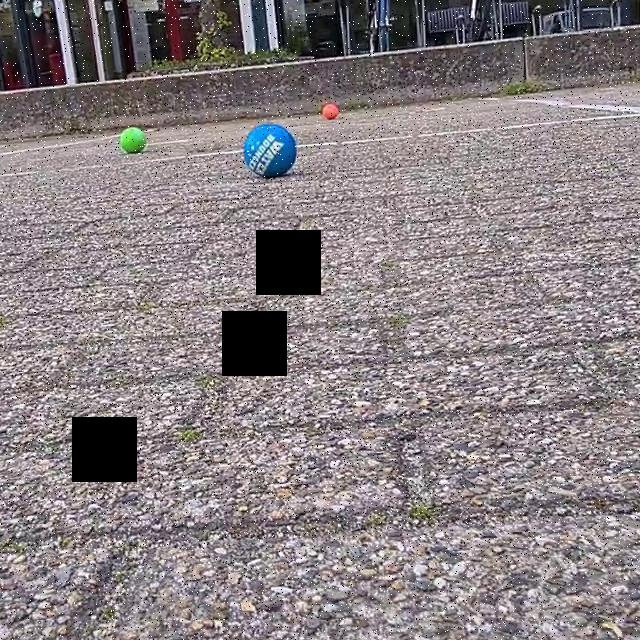ball: (119, 124, 148, 155), (319, 103, 341, 120)
